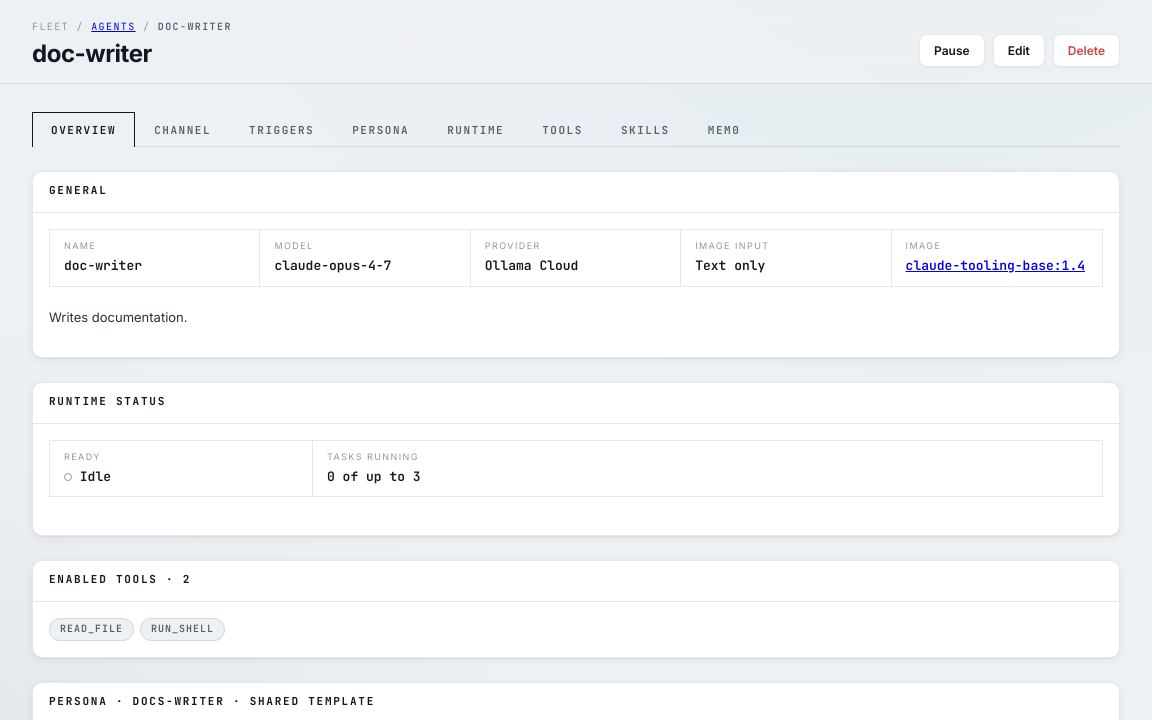
Test: AgentDetail › offers agent-scoped env overrides next to the shared image profile
Click the tab "Runtime". click: (476, 129)
box: [428,112,523,147]
(page scrolled)
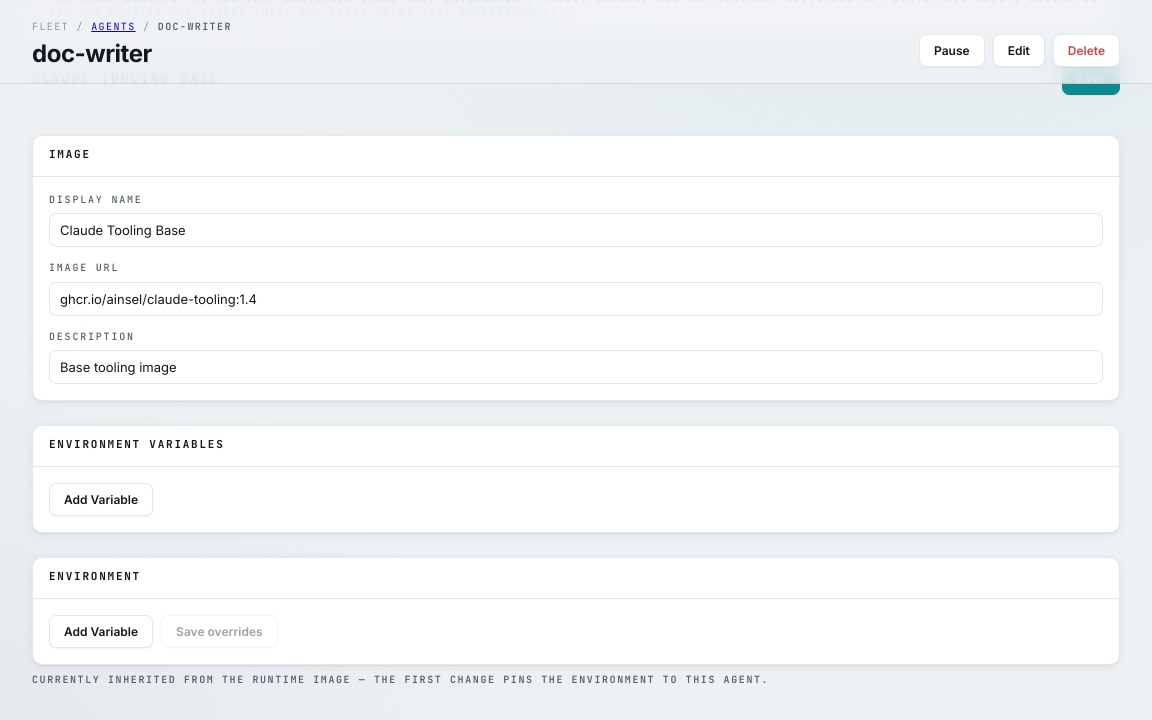
Expected: the field labelled "Image URL" is shown, [49,282,1103,316]
Expected: the heading "Environment Variables" is shown, [49,438,225,454]
Expected: the heading "Environment" is shown, [49,570,141,586]
